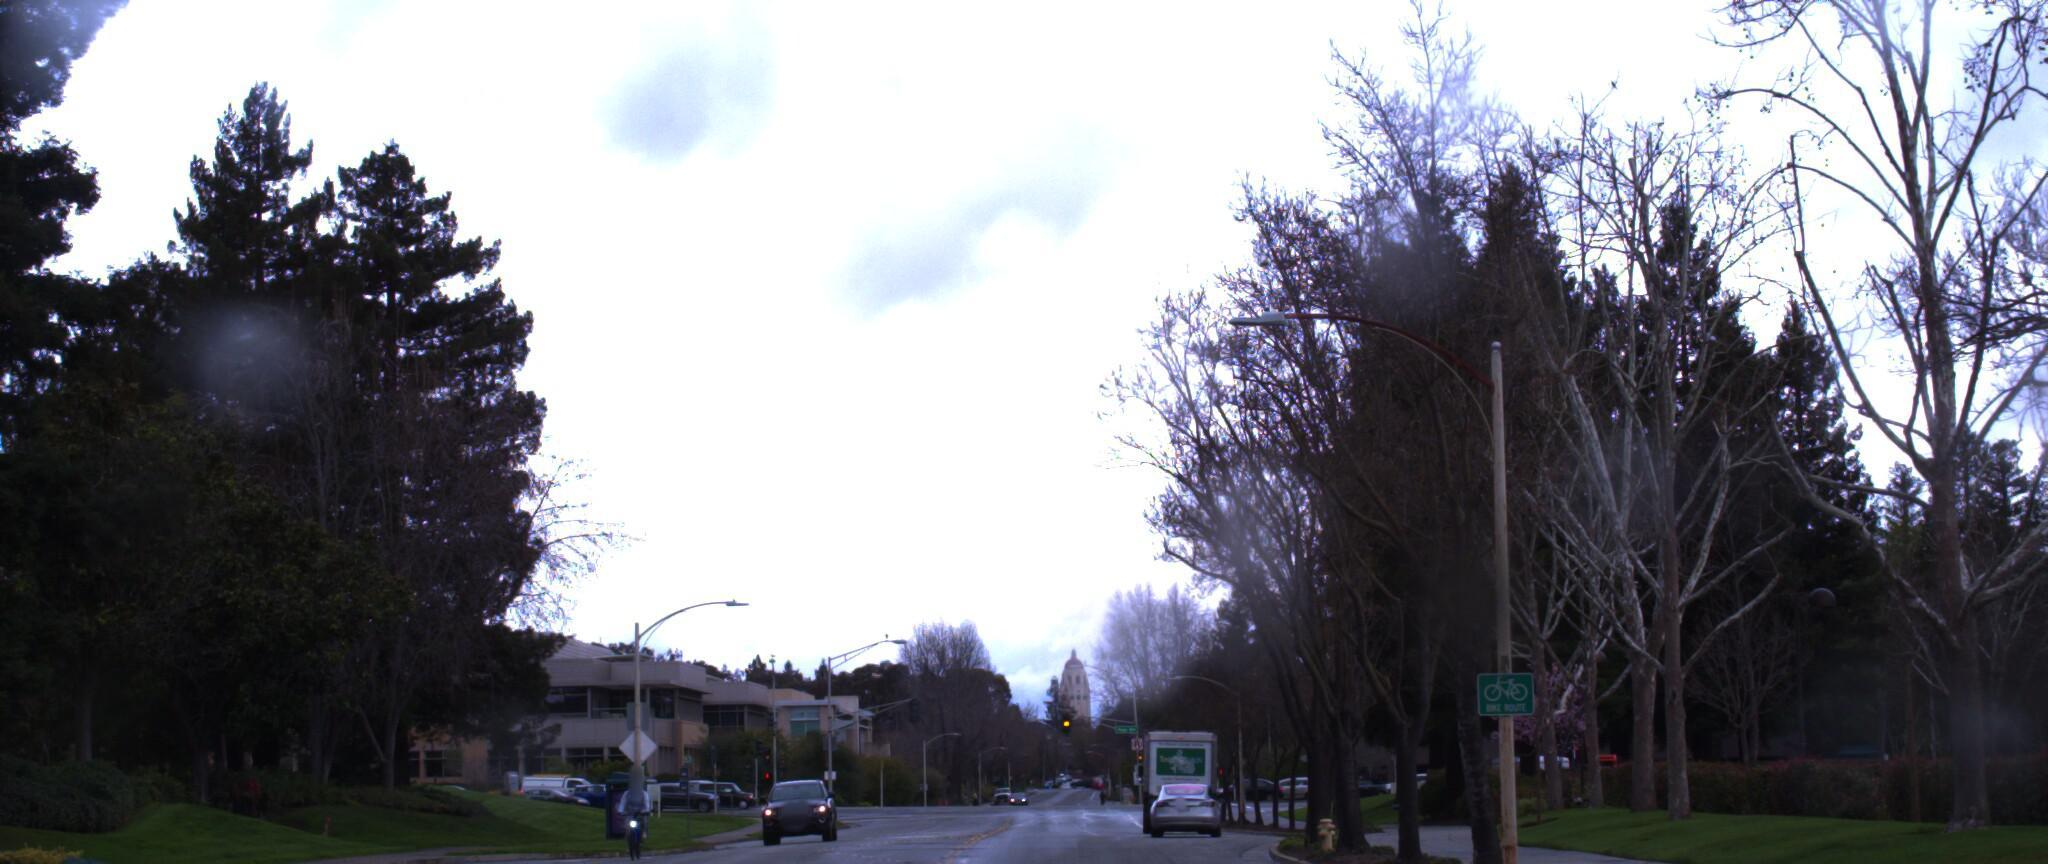bicycle: (613, 782, 666, 864)
car: (761, 774, 840, 843), (1140, 784, 1209, 844)
